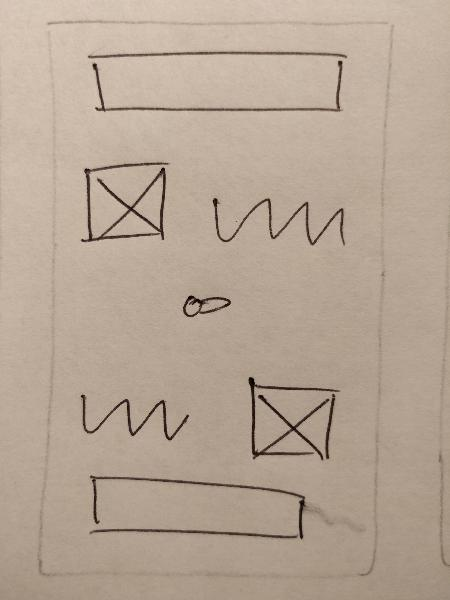image: (232, 368, 353, 476), (74, 154, 176, 252)
switch: (171, 279, 244, 329)
text: (202, 183, 352, 261), (72, 379, 199, 455)
text_input: (76, 469, 319, 552), (83, 48, 350, 119)
